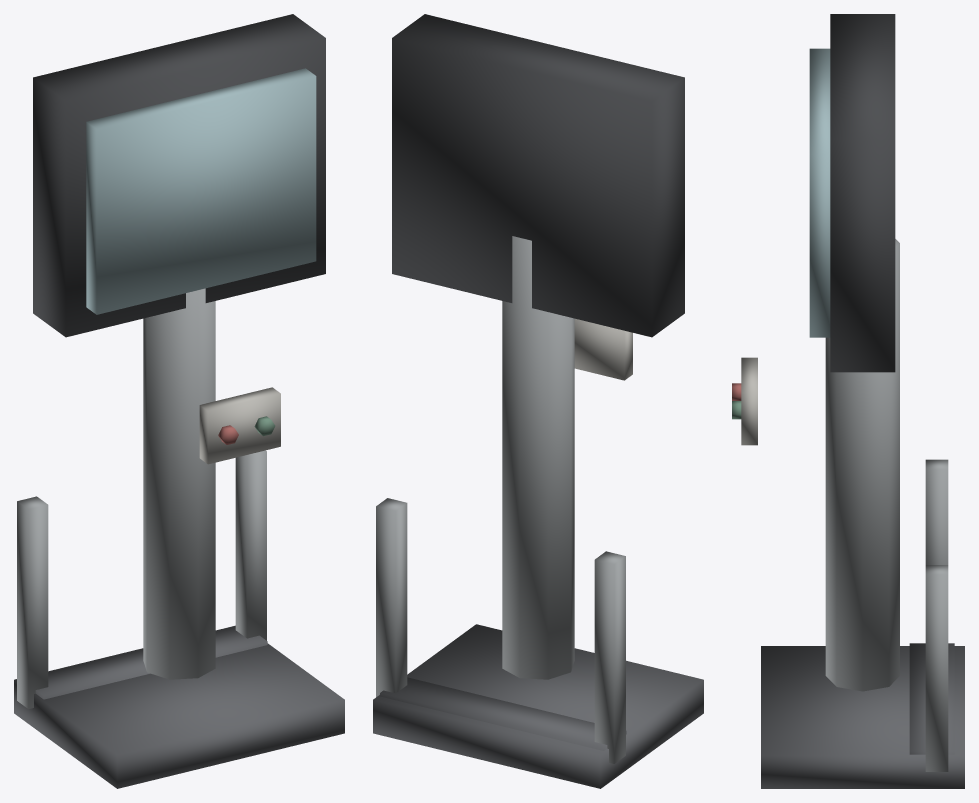
File: pos_terminal__reinforced.glb
3 renders of one model, left to right at view 1: azimuth 30°, elevation 25°; view 2: azimuth 150°, elevation 25°; view 3: azimuth 270°, elevation 25°, orthographic.
Visible parts, largest first — view 1: world; view 2: world; view 3: world.
Part boxes in pixels (bbox=[...]): world: bbox=[14, 14, 344, 788]; world: bbox=[373, 14, 703, 788]; world: bbox=[732, 14, 964, 788].
Size of the model in its own units: 0.3296 by 0.8058 by 0.2585.
